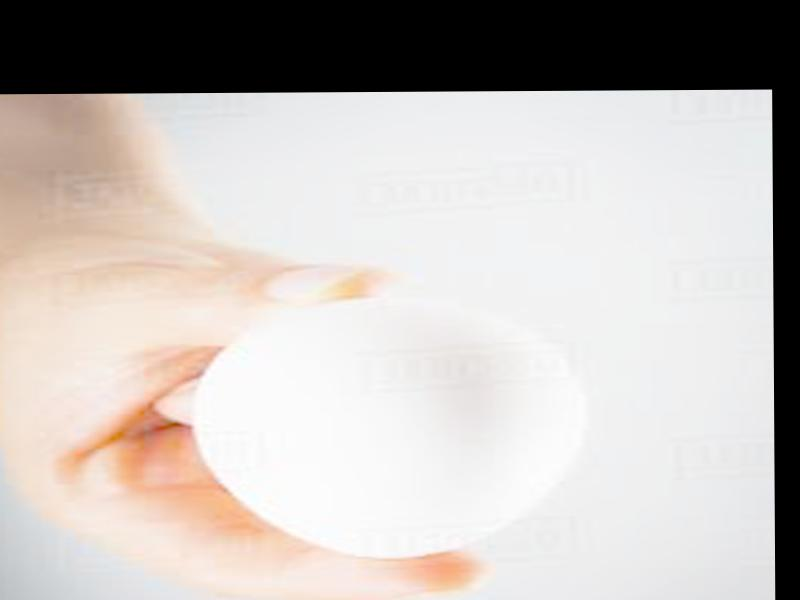Eggs: (208, 297, 582, 561)
